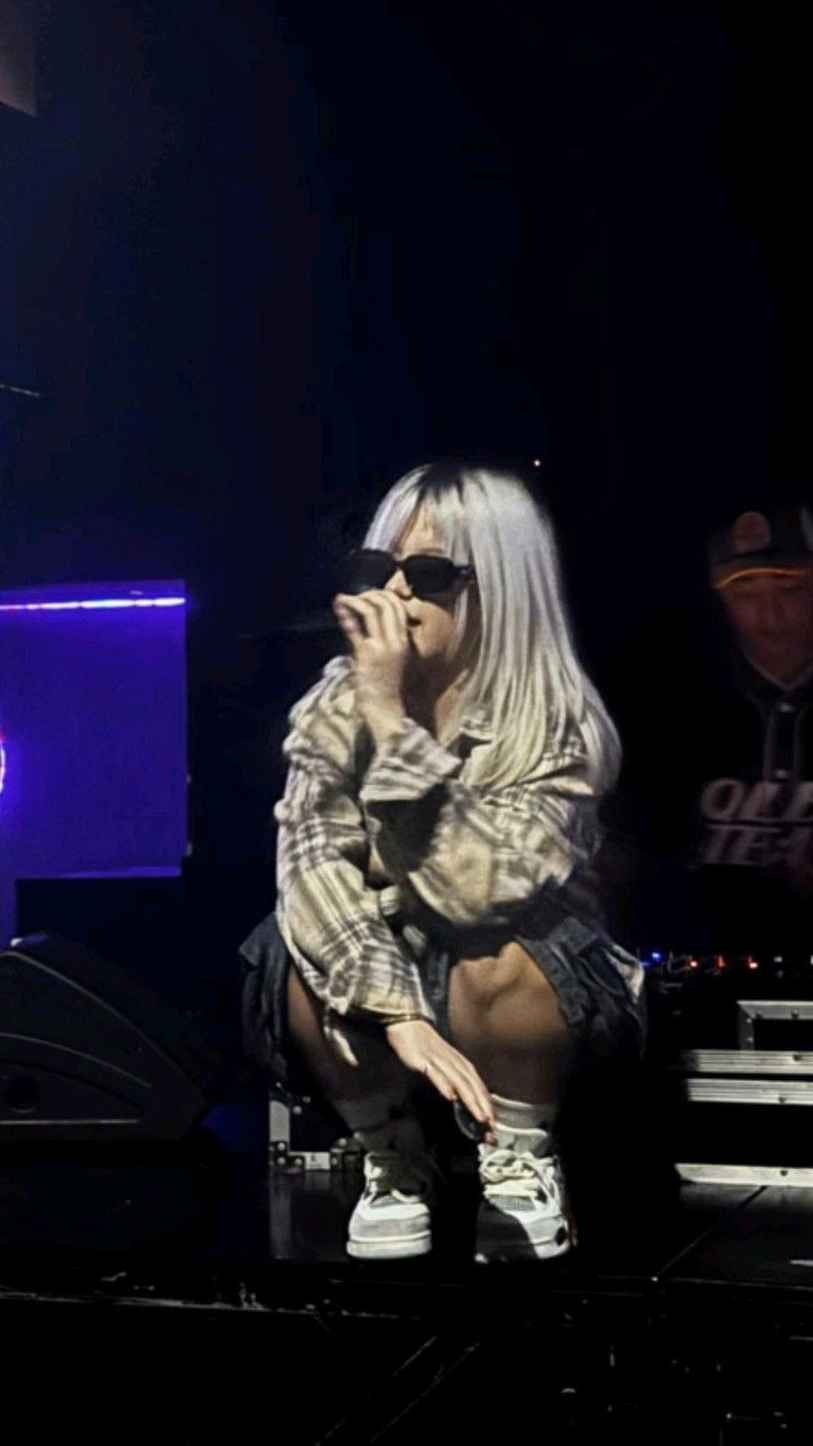non-dog: (245, 462, 653, 1266), (608, 505, 813, 951)
